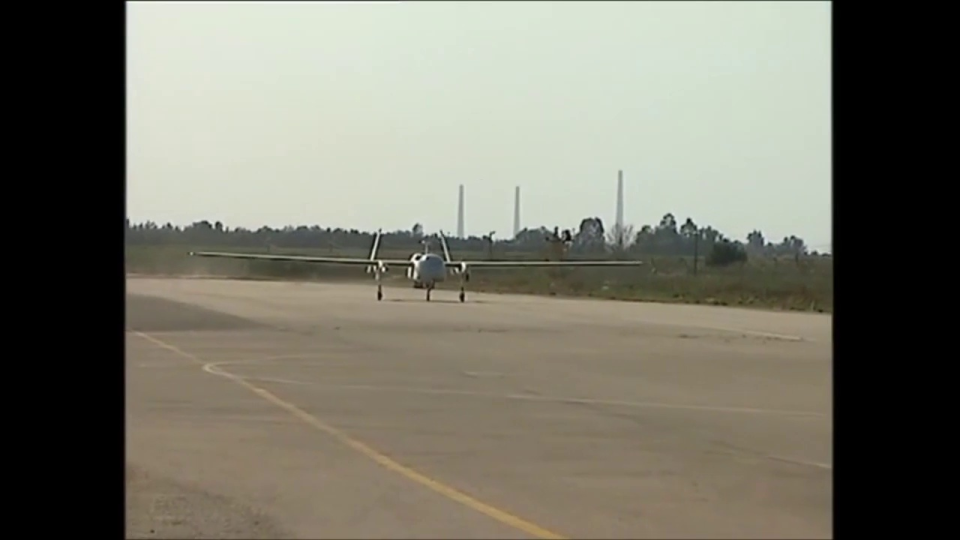military drone: (186, 227, 644, 301)
